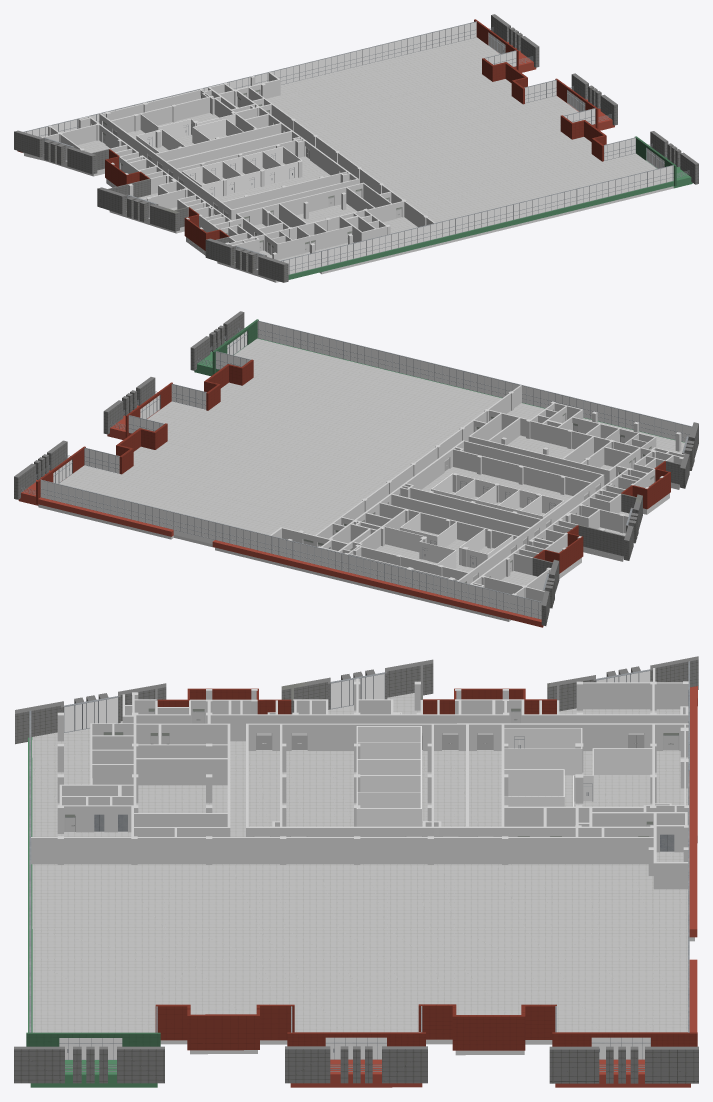
3 renders of one model, top to bottom at view 1: azimuth 30°, elevation 25°; view 2: azimuth 150°, elevation 25°; view 3: azimuth 270°, elevation 25°, orthographic. The views are drawn at different scales.
Parts seen in each view (by area): view 1: 地面_4, 内墙_4, 外立面_4, 柱子_4, 门; view 2: 地面_4, 内墙_4, 外立面_4, 柱子_4; view 3: 地面_4, 内墙_4, 外立面_4, 柱子_4, 门.
Part boxes in pixels (x1,y1,x2,y2): 地面_4: (17,37,692,282); 内墙_4: (42,72,434,259); 外立面_4: (14,14,698,282); 柱子_4: (48,76,428,259); 门: (91,89,401,255); 地面_4: (18,338,684,627); 内墙_4: (270,385,684,601); 外立面_4: (14,311,698,625); 柱子_4: (288,391,683,597); 地面_4: (28,686,697,1087); 内墙_4: (31,668,688,889); 外立面_4: (14,656,698,1083); 柱子_4: (57,681,688,875); 门: (64,708,679,836).
Size of the model in its own units: 120 by 5.63 by 88.43.
11 materials, 7 textured.
